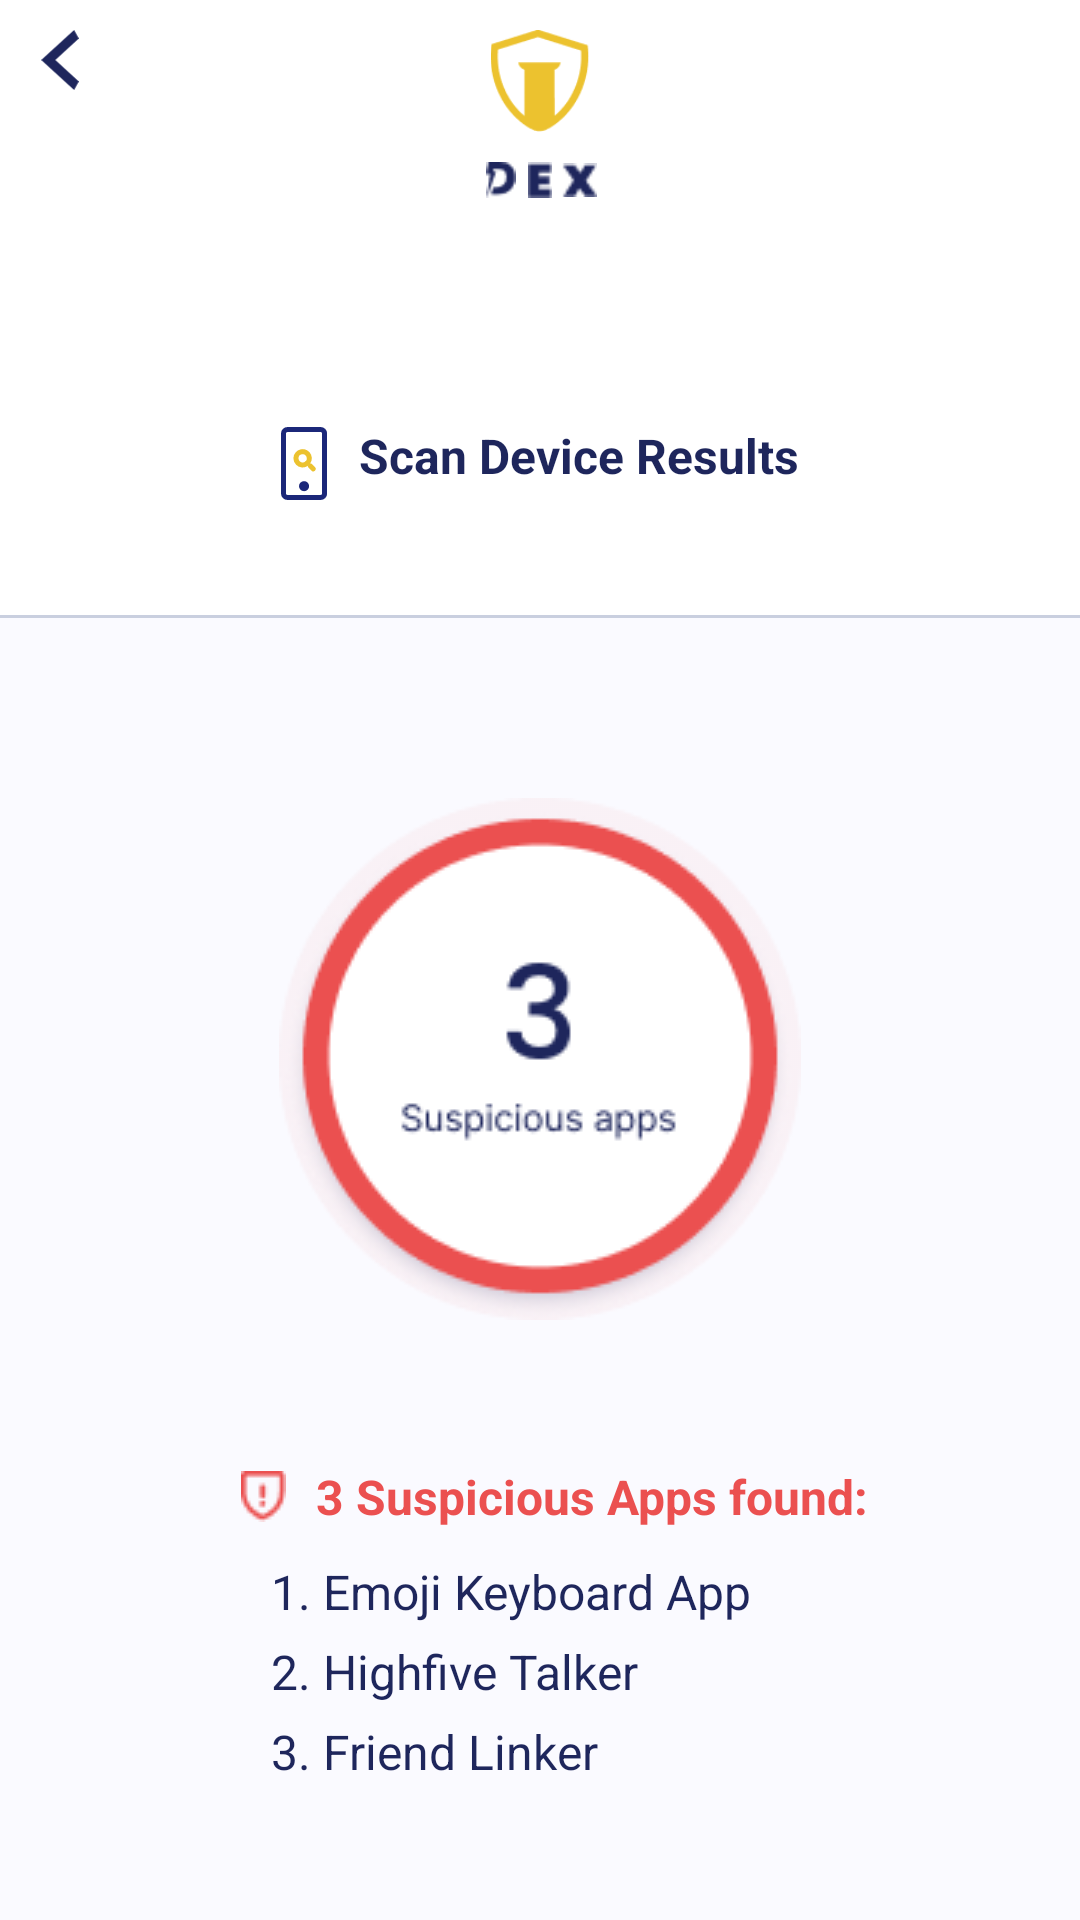

Icon click points for this 1080px x 1920px phone screenshot, format [x,y]:
back: [60,60]
